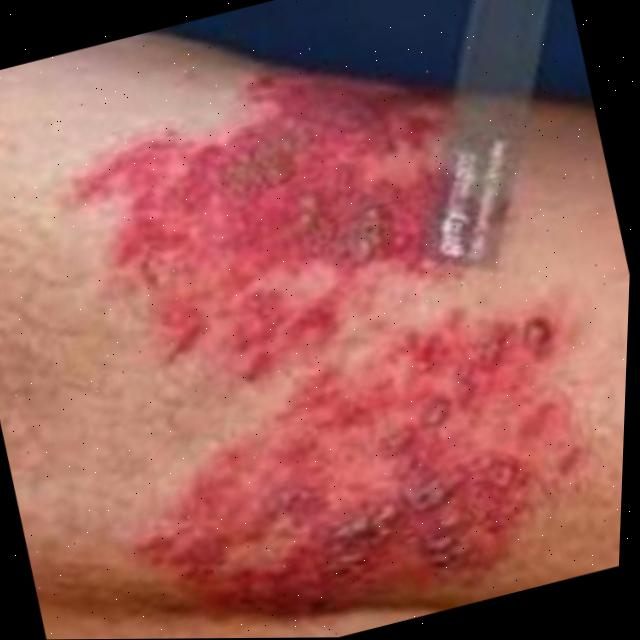Shingles: (119, 304, 599, 639), (58, 46, 450, 393)
